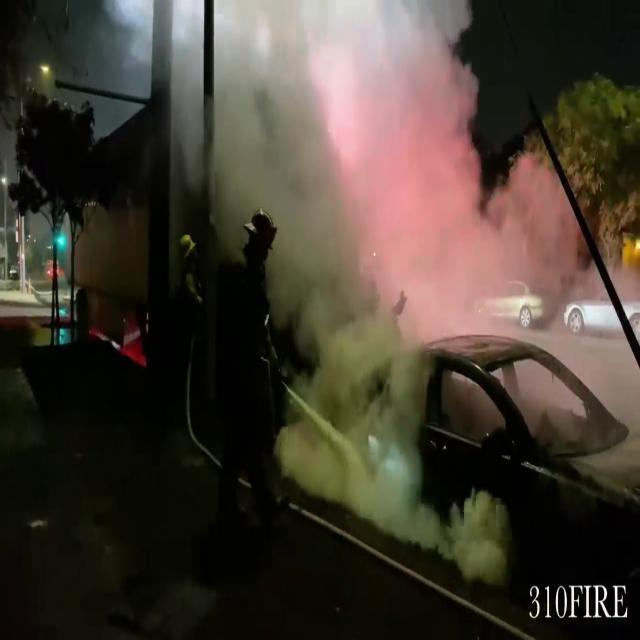Smoke: (214, 0, 614, 352)
